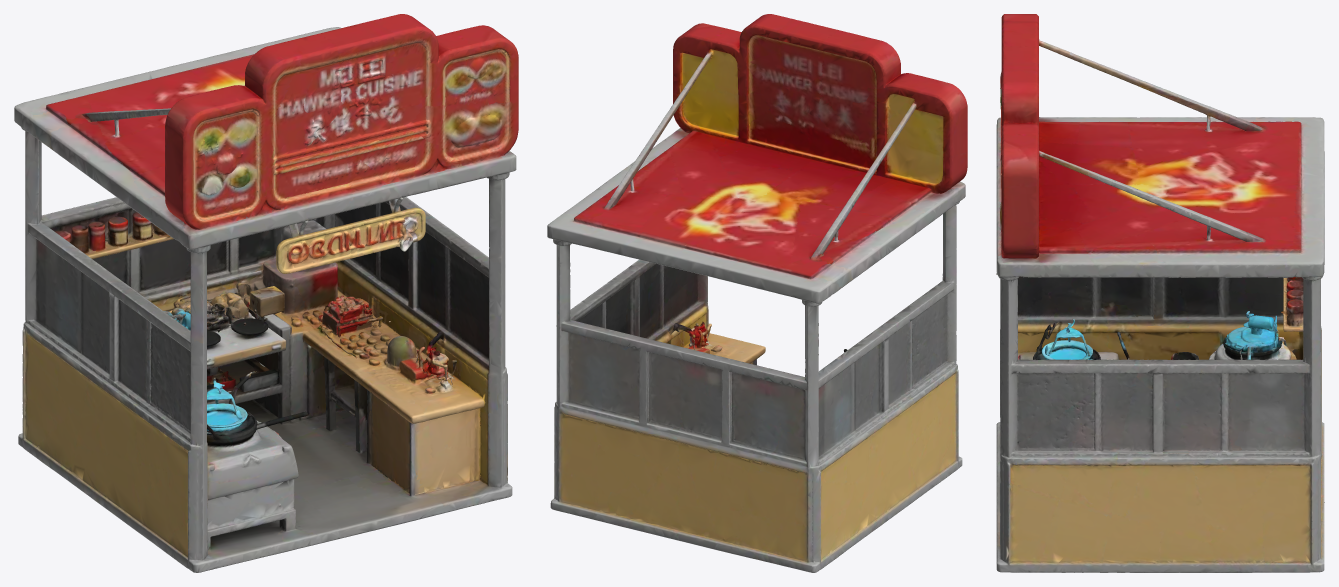
File: hawker_stall_opt.glb
3 views of the same model, side by side, from view 1: azimuth 30°, elevation 25°; view 2: azimuth 150°, elevation 25°; view 3: azimuth 270°, elevation 25° (orthographic). The views are drawn at different scales.
Parts seen in each view (by area): view 1: Mesh_0; view 2: Mesh_0; view 3: Mesh_0.
Boxes of the visible parts, x1,y1,x2,y2 form: Mesh_0: (14,14,518,572); Mesh_0: (547,14,967,572); Mesh_0: (996,14,1324,572).
Bounding box in the file's own units: 3.56 × 5 × 3.29.
Materials: 1 (1 with a texture image).
